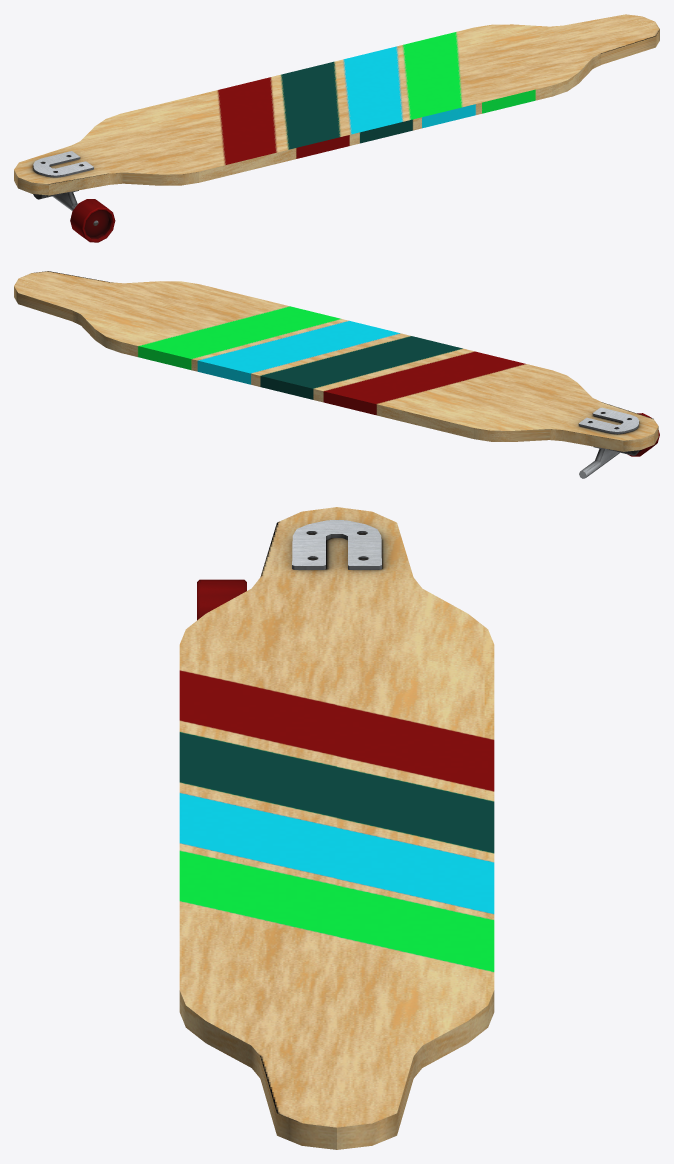
Rendered from SkateBoard03.fbx.
3 renders of one model, top to bottom at view 1: azimuth 30°, elevation 25°; view 2: azimuth 150°, elevation 25°; view 3: azimuth 270°, elevation 25°, orthographic. The views are drawn at different scales.
Parts seen in each view (by area): view 1: Board, Wheel1, BoardBase; view 2: Board, BoardBase; view 3: Board, Wheel1.
Part boxes in pixels (left/top/right/bottom): Board: left=14, top=14, right=659, bottom=195; Wheel1: left=70, top=199, right=115, bottom=242; BoardBase: left=33, top=190, right=78, bottom=210; Board: left=14, top=271, right=658, bottom=451; BoardBase: left=579, top=446, right=639, bottom=478; Board: left=179, top=507, right=494, bottom=1149; Wheel1: left=197, top=579, right=246, bottom=620.
Bounding box in the file's own units: 0.7192 × 0.0578 × 0.1542.
